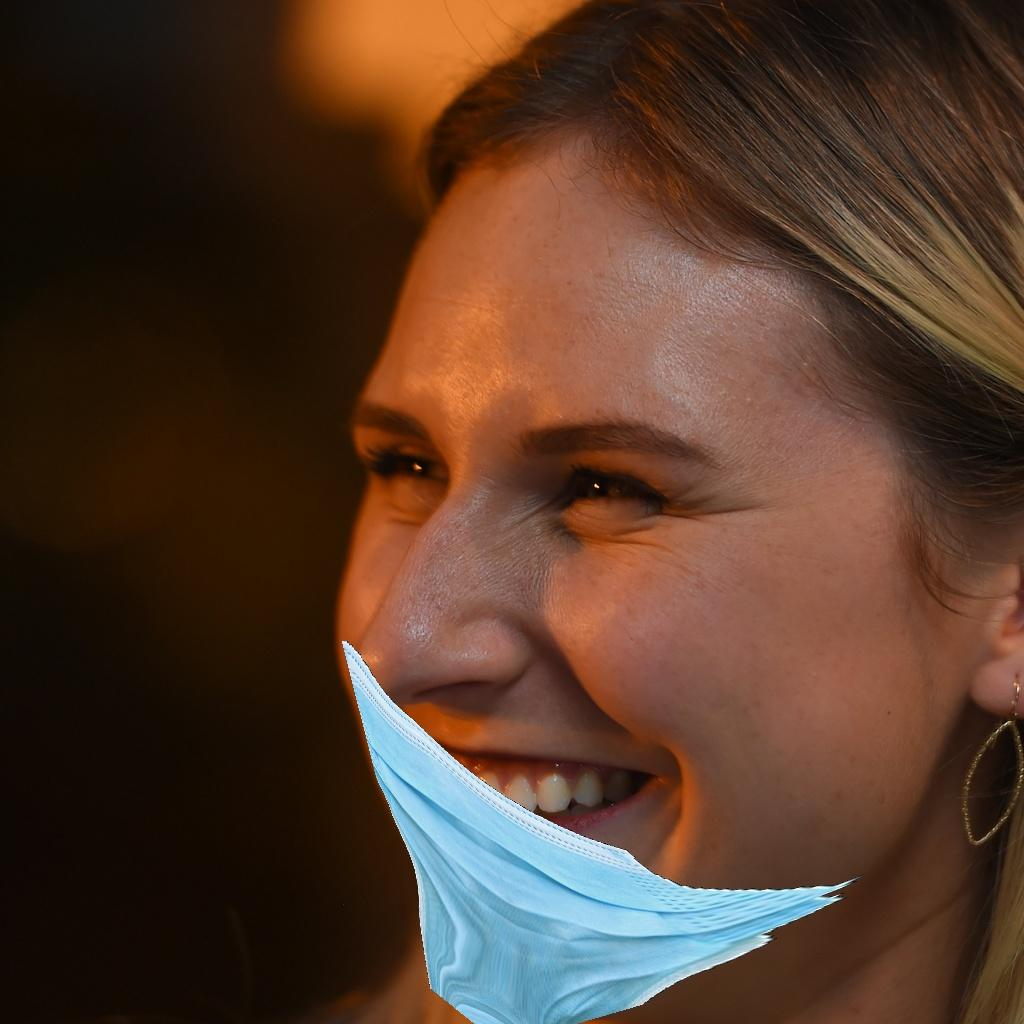Máscara Incorreta: (373, 172, 865, 971)
